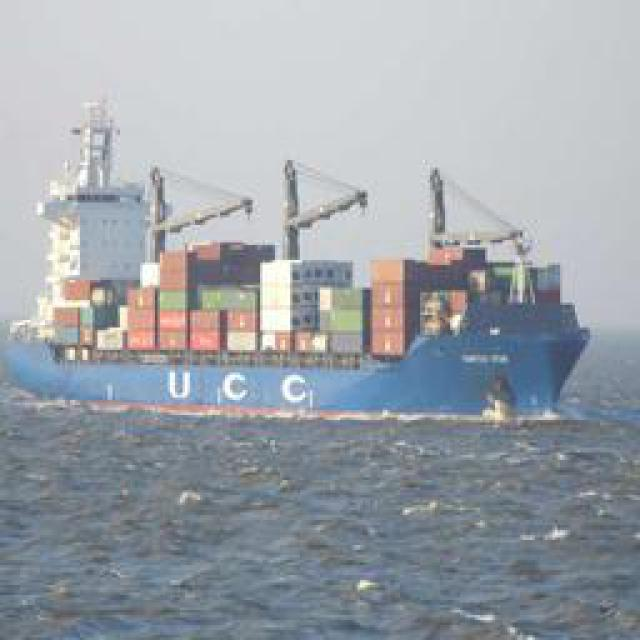Ship: (8, 117, 593, 417)
